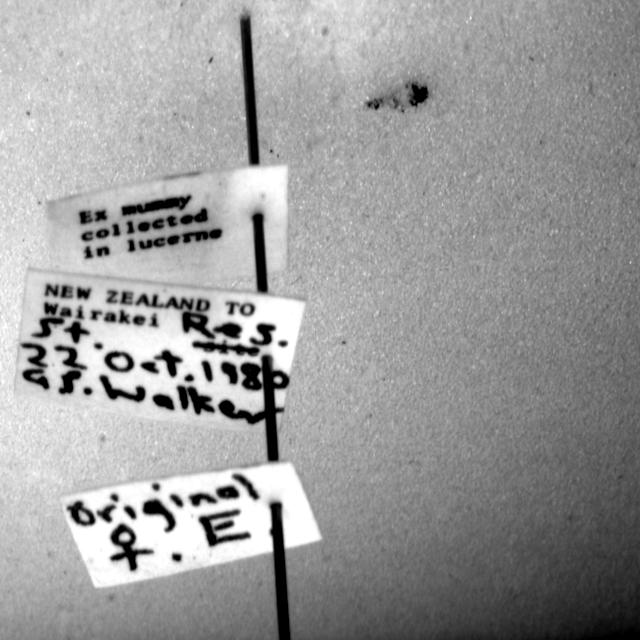hand_label: (62, 461, 321, 587)
mixed_label: (15, 268, 305, 431)
typed_label: (46, 163, 289, 285)
